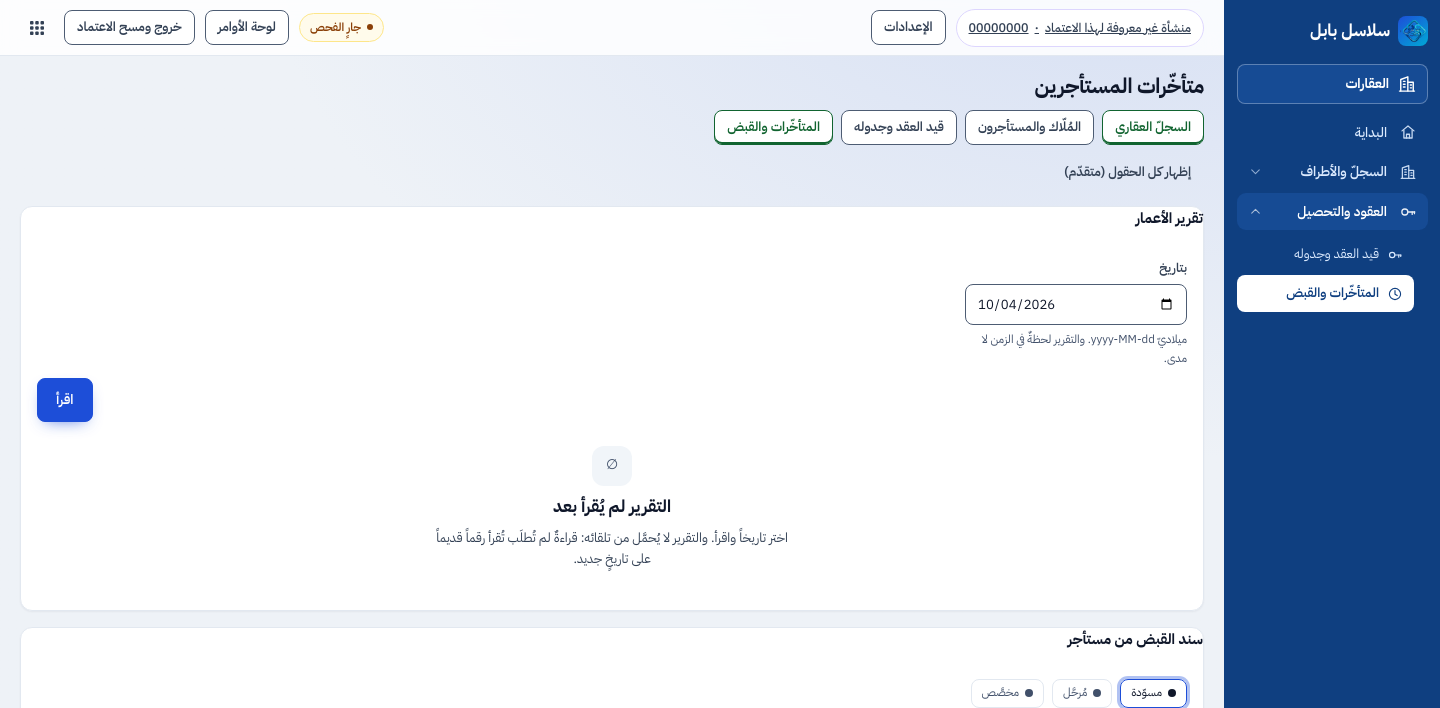
it: حالات الفراغ › تقرير المتأخّرات بلا مستأجرين يقول لماذا فرغ، لا جدولاً فارغاً
This screenshot has width=1440, height=708.
Check: the element with test id "re-arrears-idle" is shown, box [436,446,788,568]
Click the button with test id "re-arrears-load".
click(65, 400)  # box [37,378,92,422]
(page scrolled)
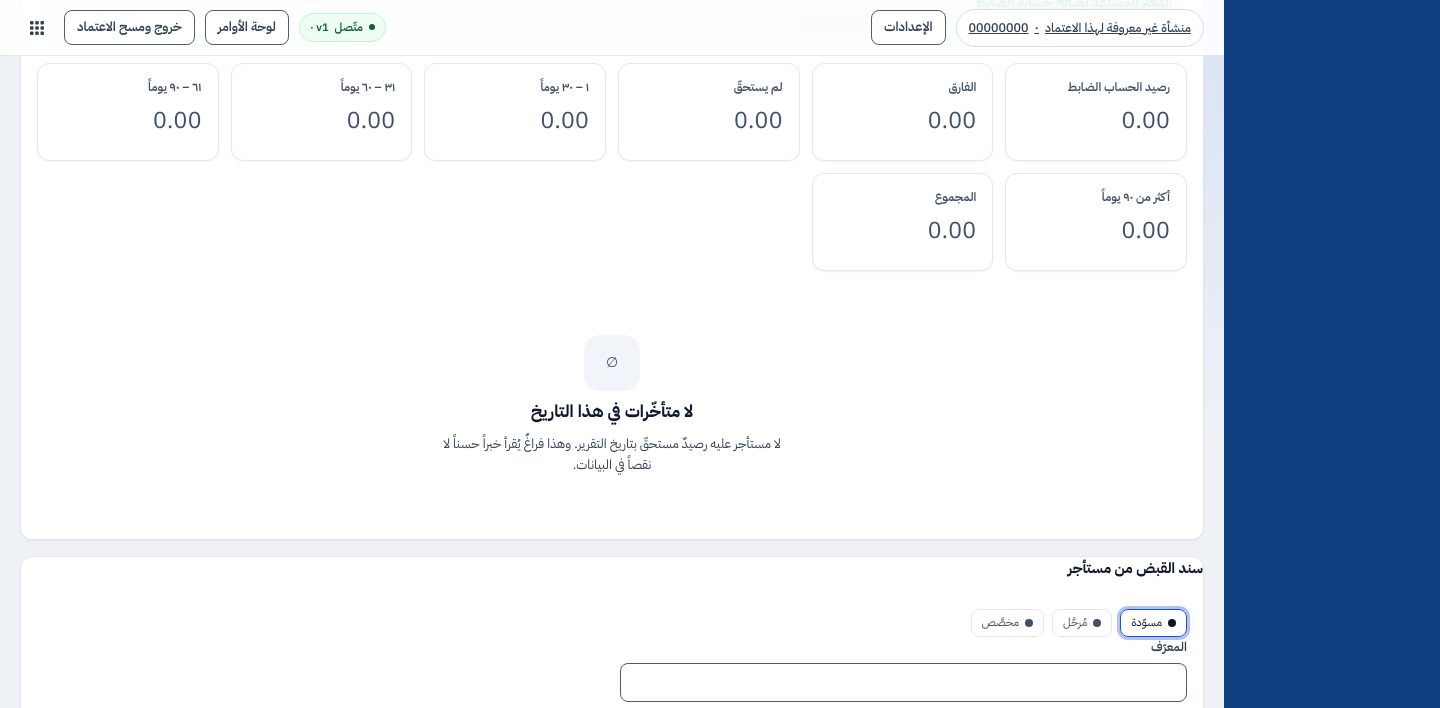
Check: the element with test id "re-arrears-empty" shows "لا متأخّرات في هذا التاريخ", box [531,399,693,424]
Check: the element with test id "re-arrears-empty" shows "خبراً حسناً", box [443,434,781,474]
